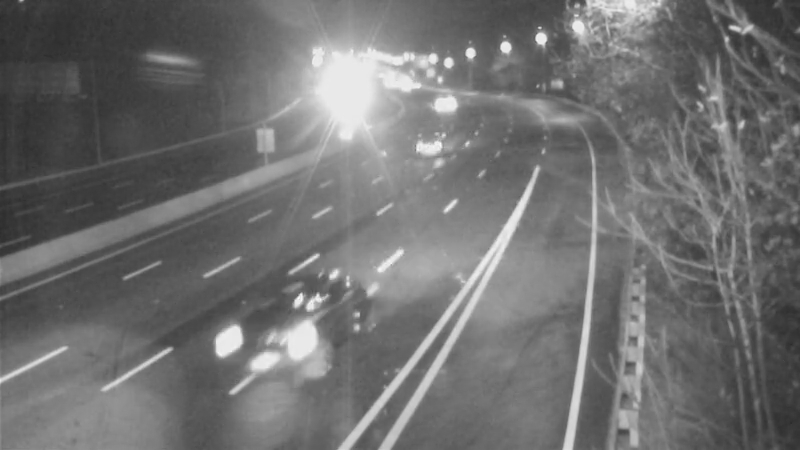vehicle: (207, 278, 317, 388), (420, 71, 470, 121), (408, 125, 458, 175), (319, 78, 369, 128)
